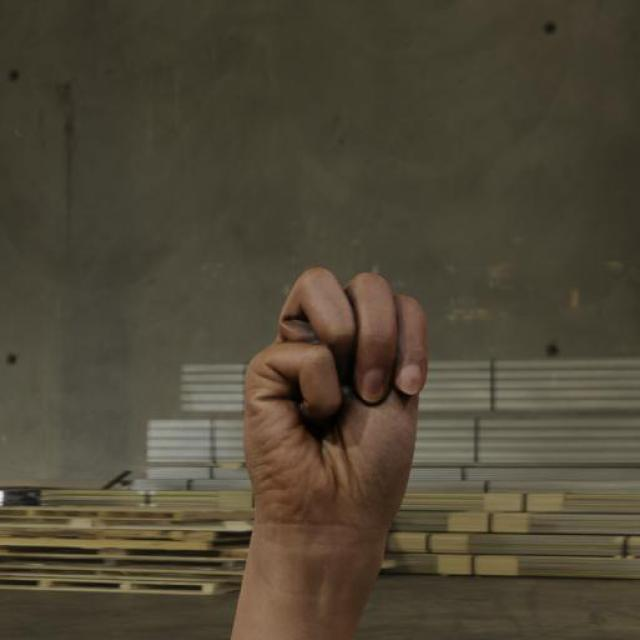M: (241, 260, 431, 536)
